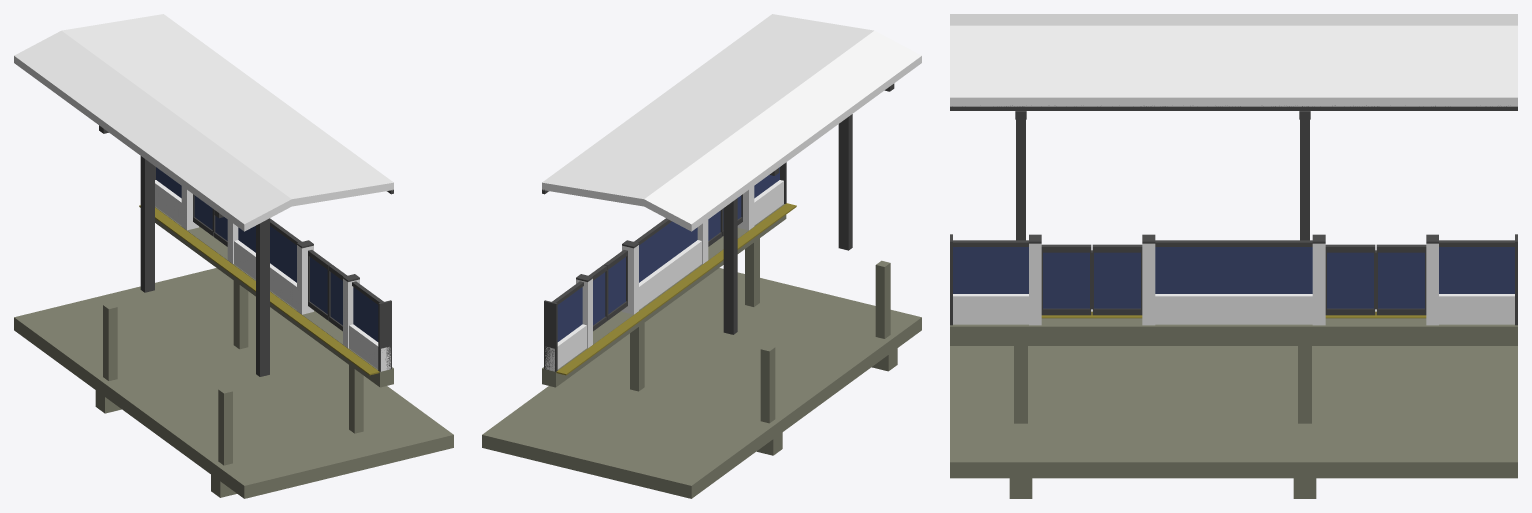
Rendered from platform.fbx.
The picture shows the model from 3 angles, left to right: view 1: azimuth 30°, elevation 25°; view 2: azimuth 150°, elevation 25°; view 3: azimuth 270°, elevation 25°; orthographic projection. The views are drawn at different scales.
Parts seen in each view (by area): view 1: p502/platform; view 2: p502/platform; view 3: p502/platform.
Boxes of the visible parts, x1,y1,x2,y2 form: p502/platform: (14,14,453,498); p502/platform: (482,14,921,498); p502/platform: (950,14,1517,498).
Bounding box in the file's own units: 4.2 × 5.84 × 8.
